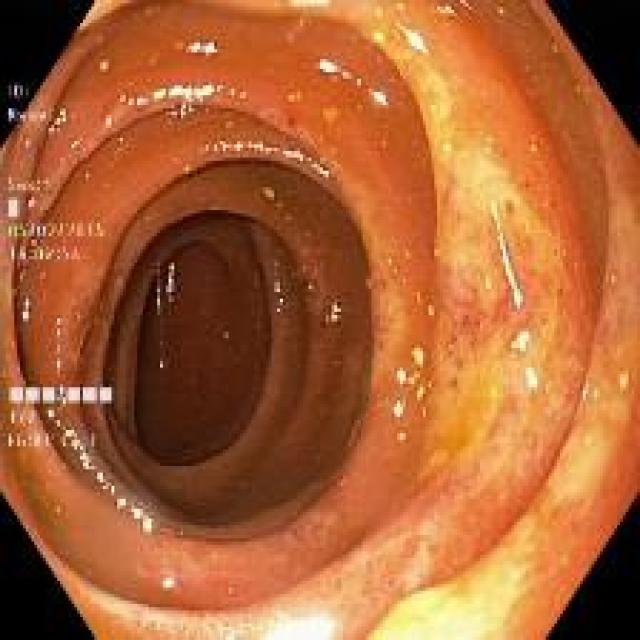ulcerative-colitis-grade-2-3: (39, 3, 640, 639)
